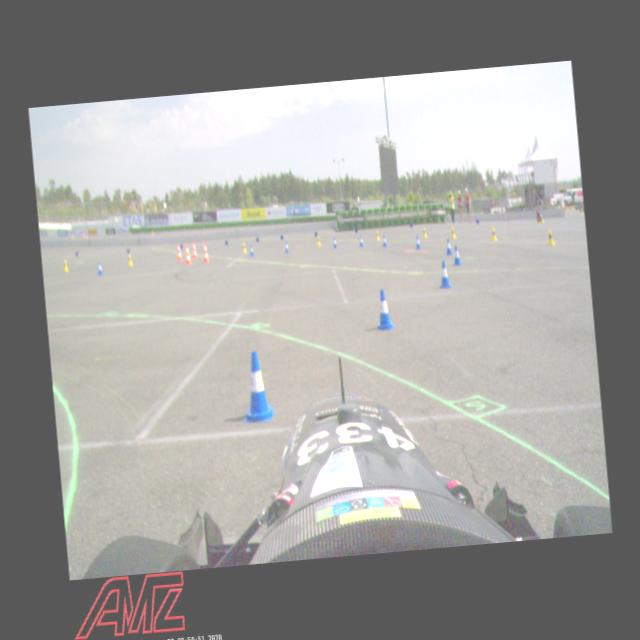blue_cone: (236, 348, 275, 422), (373, 286, 395, 332), (437, 258, 452, 290), (451, 244, 462, 266), (444, 237, 453, 255), (414, 233, 421, 250), (96, 260, 102, 274), (381, 234, 387, 247), (332, 236, 338, 248), (284, 240, 290, 252), (248, 244, 254, 256), (358, 234, 363, 247)
large_orange_cone: (182, 242, 192, 265), (200, 240, 209, 264), (190, 240, 198, 259), (175, 242, 182, 260)
yellow_cone: (544, 227, 554, 246), (490, 225, 498, 242), (449, 225, 456, 239), (420, 226, 427, 238), (240, 241, 247, 253), (126, 254, 133, 266), (62, 258, 68, 272), (315, 234, 321, 247), (374, 229, 380, 241)
